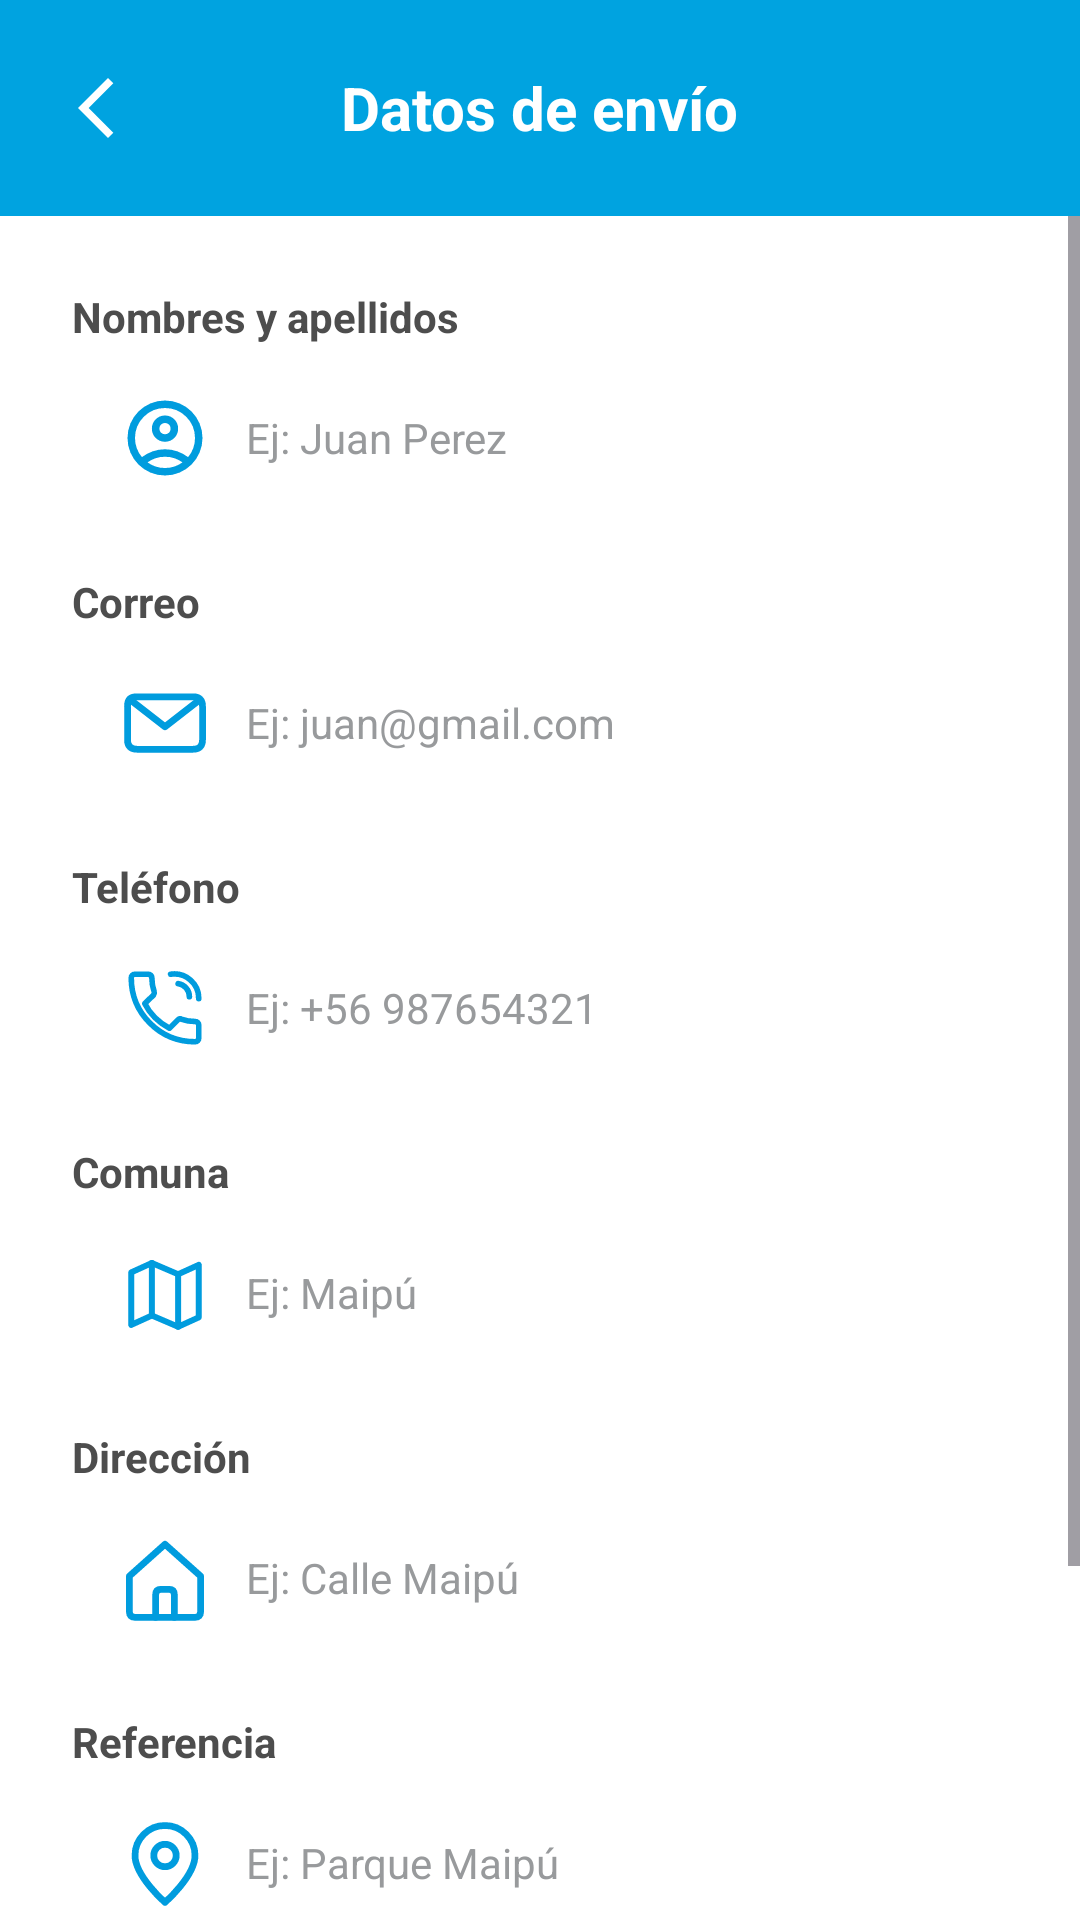

Screen size 1080x1920. Icon name, then its box in pixels as (x1, y1, x2, y2):
Volver atrás: (78, 78, 113, 138)
